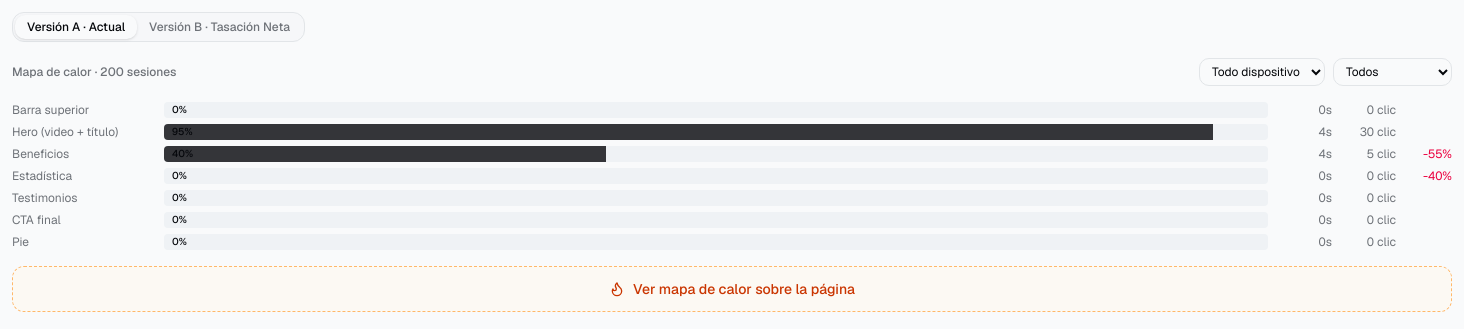
it: HeatmapPanel — embudo con dos versiones (tasación) › una versión sin datos lo dice, pero deja el selector y el enlace al visor a mano
The image size is (1464, 329).
Click the button "Versión B · Tasación Neta" at (220, 27), box 137,15 -> 302,39
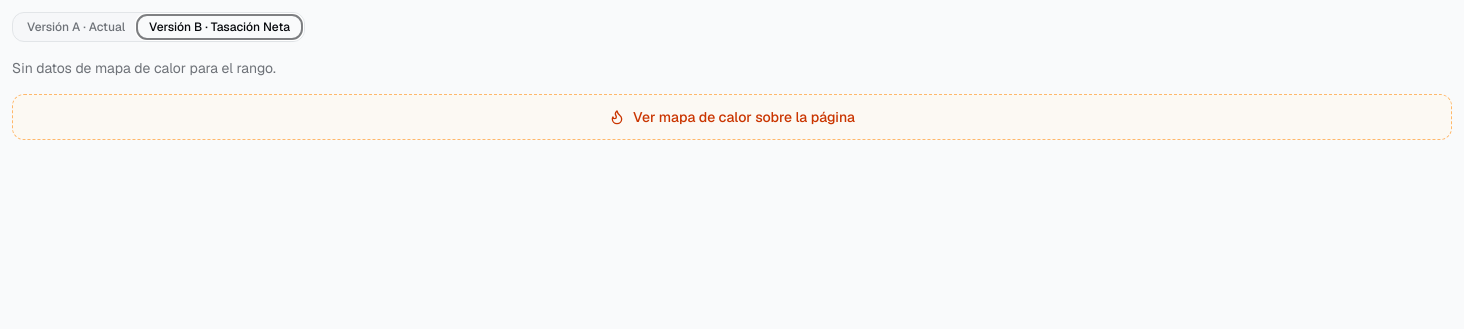
Expected: the button "Versión A · Actual" is shown, 15,15 -> 137,39
Expected: the text "Sin datos de mapa de calor para el rango." is shown, 12,59 -> 276,77
